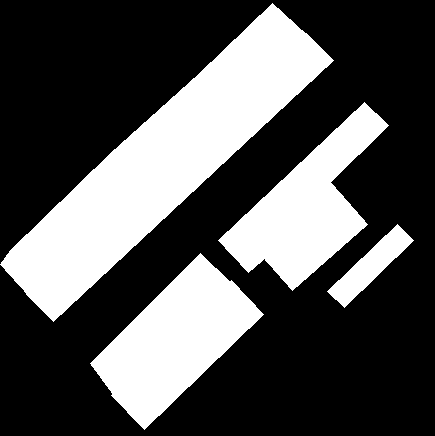parkingspot: (0, 3, 308, 296), (26, 33, 333, 321), (218, 102, 388, 272), (111, 280, 263, 429), (90, 253, 231, 397), (261, 193, 367, 290), (327, 224, 413, 307)
